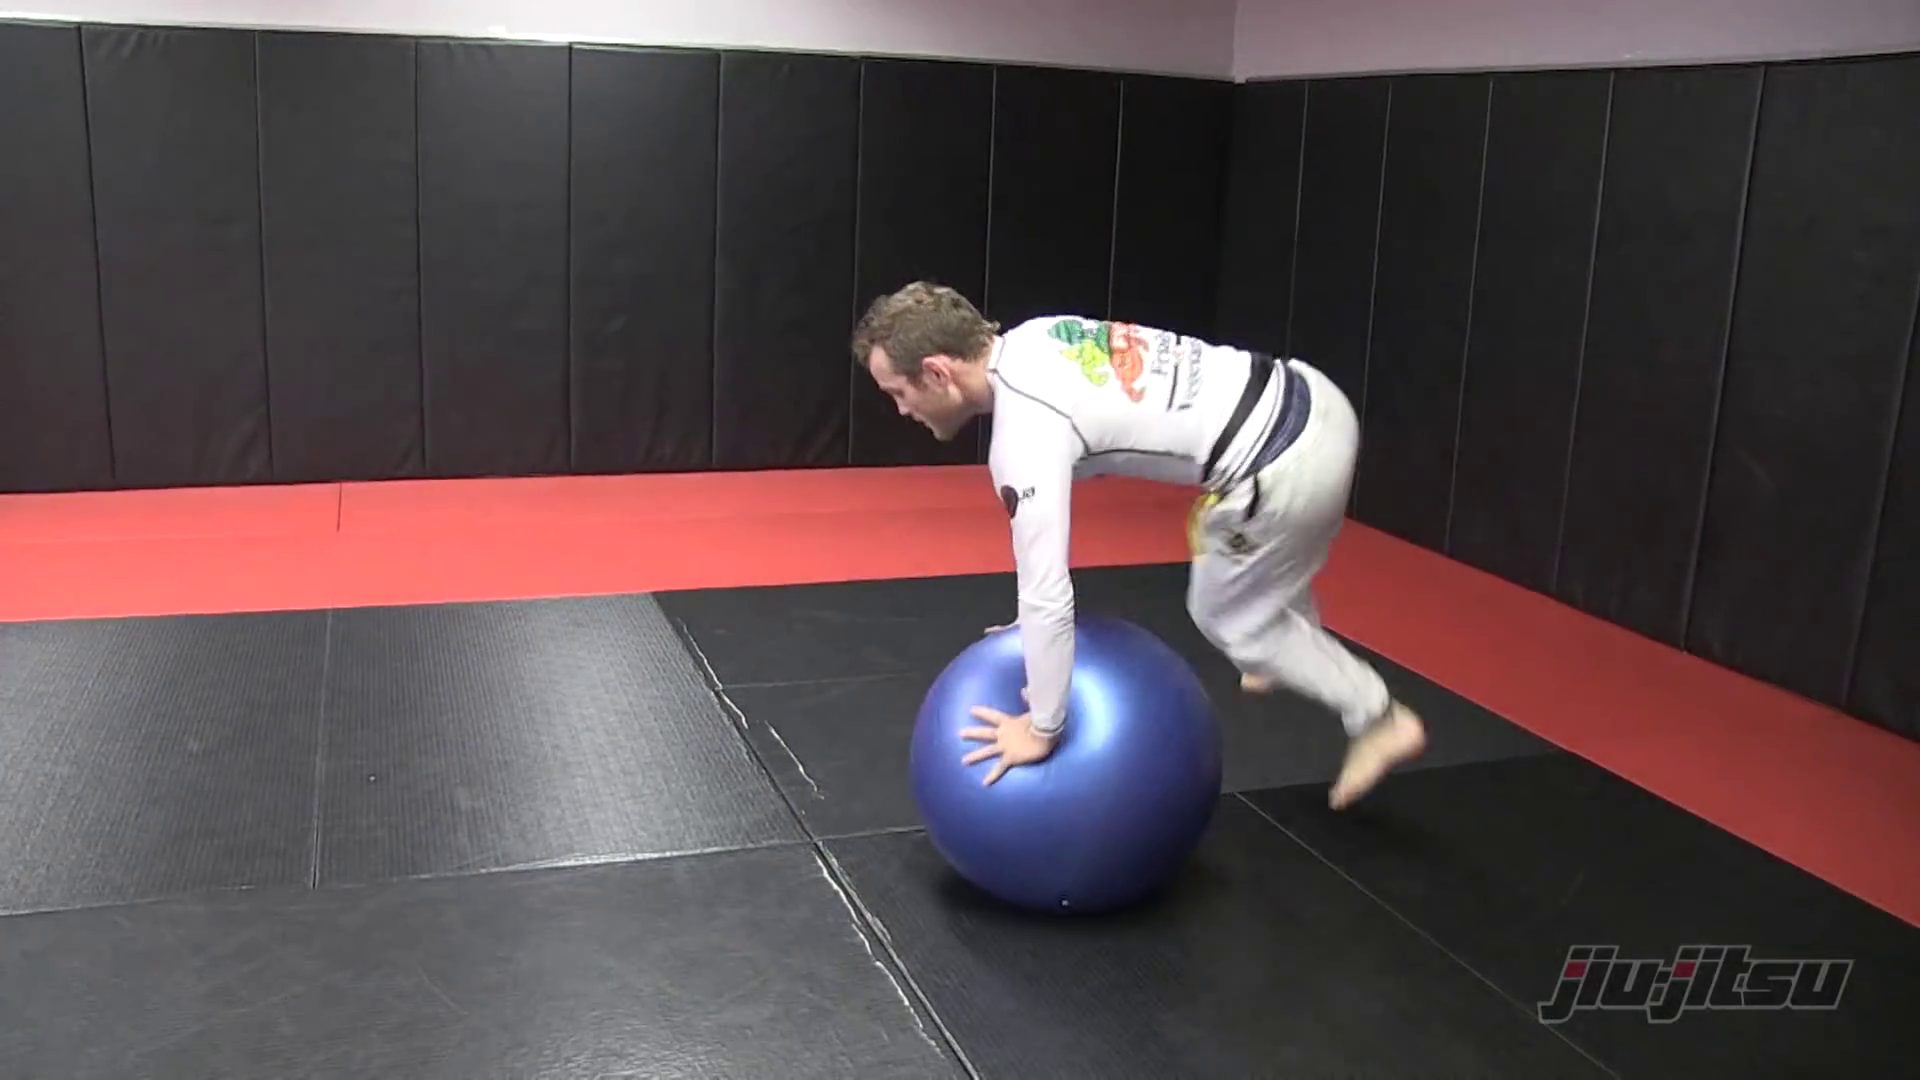yogaball: (889, 595, 1236, 932)
